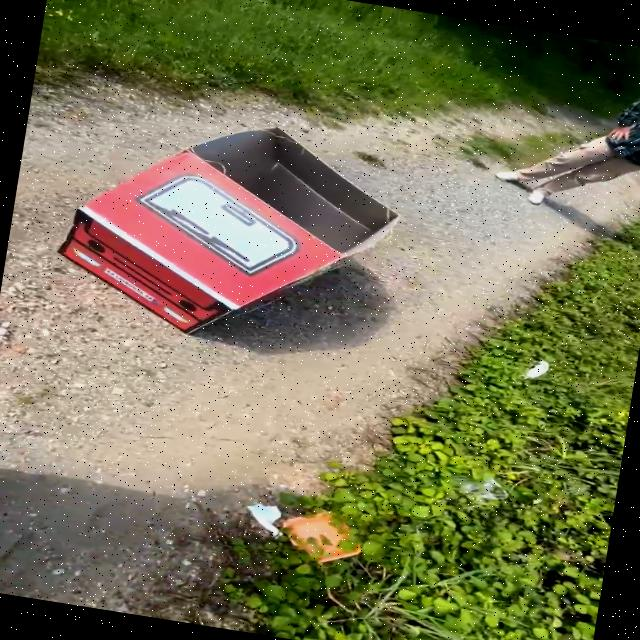red_car: (15, 74, 452, 368)
